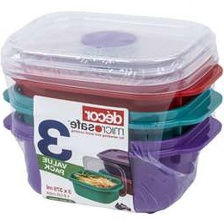plastic_box: (0, 4, 224, 220)
